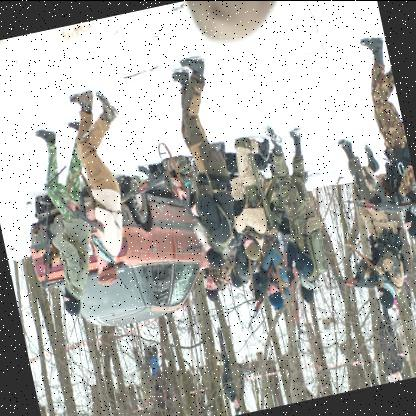rifle: (43, 176, 106, 244), (277, 251, 312, 357), (23, 205, 66, 291), (232, 258, 283, 330), (115, 149, 174, 203), (350, 178, 416, 224), (325, 258, 383, 301), (165, 175, 202, 224)
